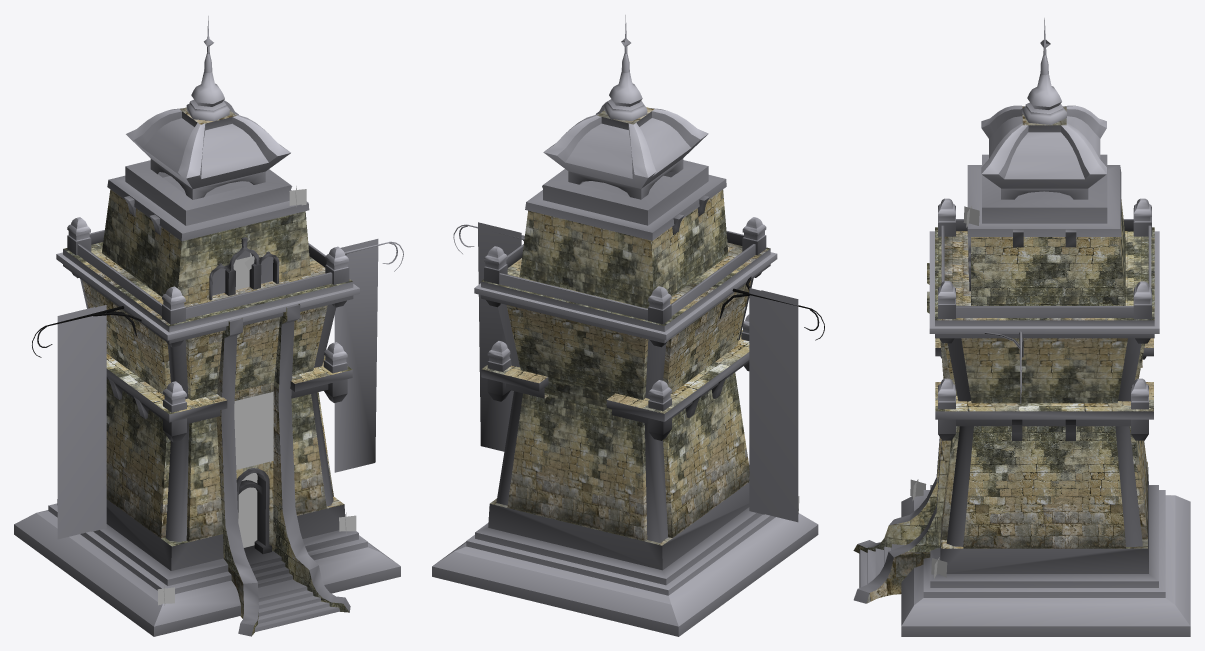
The model's file is Tower.FBX.
3 renders of one model, left to right at view 1: azimuth 30°, elevation 25°; view 2: azimuth 150°, elevation 25°; view 3: azimuth 270°, elevation 25°, orthographic. The views are drawn at different scales.
Visible parts, largest first — view 1: Tower; view 2: Tower; view 3: Tower.
Boxes of the visible parts, x1,y1,x2,y2 form: Tower: (14,16,403,636); Tower: (432,15,824,636); Tower: (853,18,1190,636).
Bounding box in the file's own units: 90.93 × 127 × 68.98.
